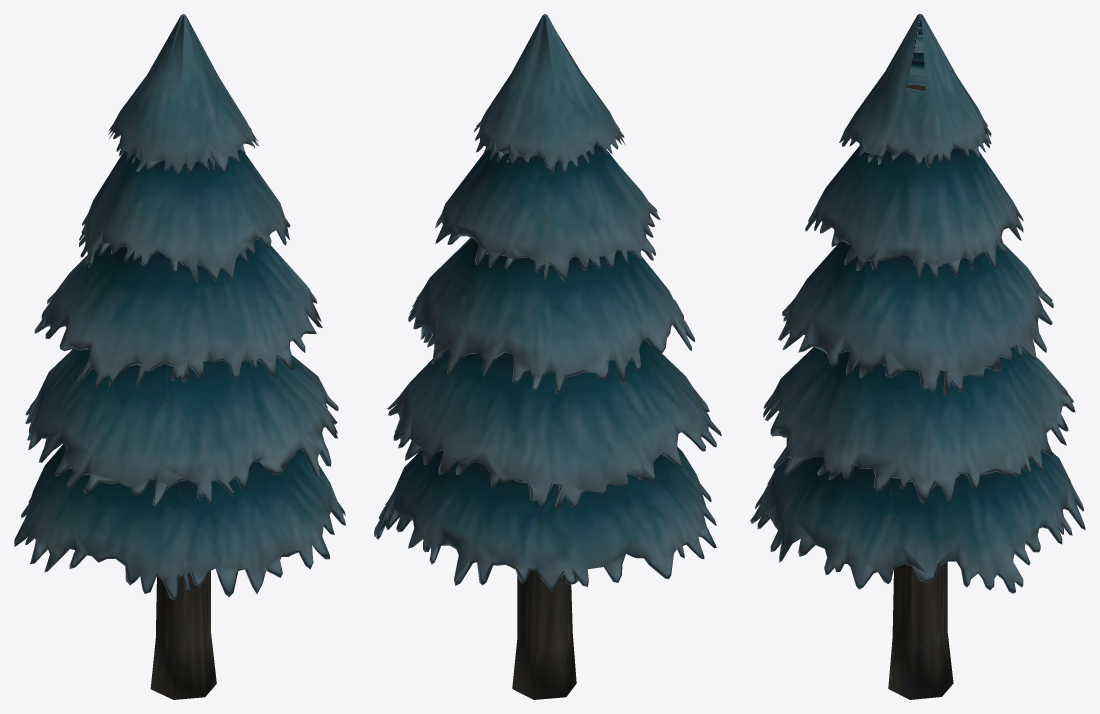
File: forest_tree.glb
The picture shows the model from 3 angles, left to right: view 1: azimuth 30°, elevation 25°; view 2: azimuth 150°, elevation 25°; view 3: azimuth 270°, elevation 25°; orthographic projection.
Parts seen in each view (by area): view 1: model; view 2: model; view 3: model.
Part boxes in pixels (box(x1,y1,x2,y2)): model: box(14, 14, 345, 699); model: box(374, 14, 721, 699); model: box(750, 14, 1085, 699).
Bounding box in the file's own units: 0.4677 × 1 × 0.4521.
1 material, 1 textured.
